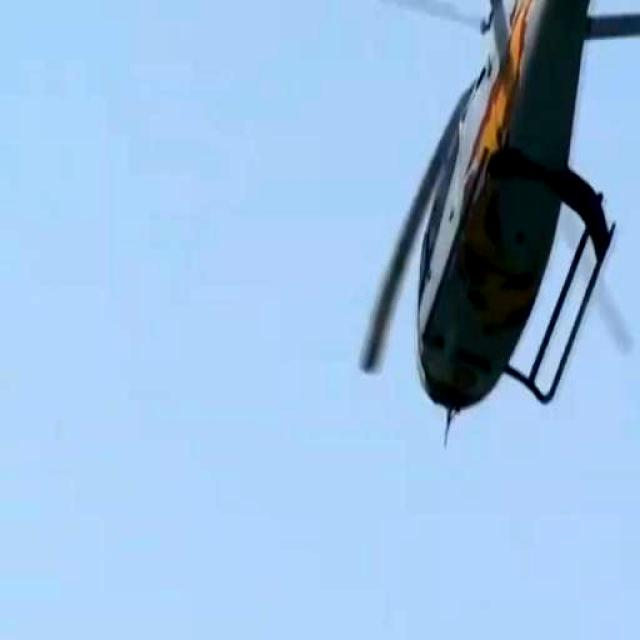drone: (244, 0, 640, 446)
